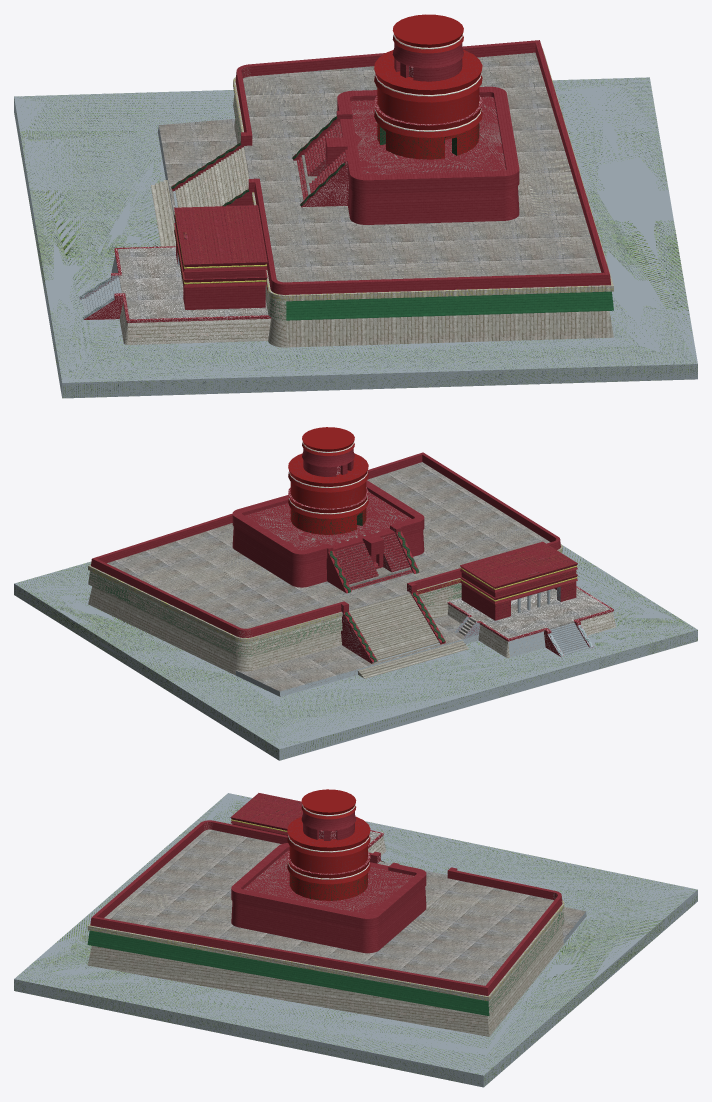
The model's file is chichenitza_r4.obj.
3 renders of one model, top to bottom at view 1: azimuth 30°, elevation 25°; view 2: azimuth 150°, elevation 25°; view 3: azimuth 270°, elevation 25°, orthographic. The views are drawn at different scales.
Parts seen in each view (by area): view 1: instance_1.134_ID2315, instance_1.136_ID2340, instance_1.075_ID1731, instance_1.005_ID1043, instance_1.003_ID1019, instance_1.010_ID1098, instance_1.028_ID1279, instance_1.083_ID1811, instance_1.050_ID1487, instance_1.025_ID1249, instance_1.020_ID1194, instance_1.002_ID1007 (+16 smaller); view 2: instance_1.134_ID2315, instance_1.136_ID2340, instance_1.005_ID1043, instance_1.075_ID1731, instance_1.003_ID1019, instance_1.028_ID1279, instance_1.001_ID992, instance_1.020_ID1194, instance_1.083_ID1811, instance_1.050_ID1487, instance_1.025_ID1249, instance_1.002_ID1007 (+14 smaller); view 3: instance_1.134_ID2315, instance_1.136_ID2340, instance_1.005_ID1043, instance_1.075_ID1731, instance_1.003_ID1019, instance_1.010_ID1098, instance_1.083_ID1811, instance_1.002_ID1007, instance_1.050_ID1487, instance_1.099_ID1965, instance_1.097_ID1945, instance_1.095_ID1925 (+4 smaller).
Part boxes in pixels (<box>): instance_1.134_ID2315: <box>14,77,697,398</box>; instance_1.136_ID2340: <box>243,52,601,282</box>; instance_1.075_ID1731: <box>293,86,519,224</box>; instance_1.005_ID1043: <box>175,119,613,347</box>; instance_1.003_ID1019: <box>172,40,610,294</box>; instance_1.010_ID1098: <box>286,291,613,320</box>; instance_1.028_ID1279: <box>81,247,268,319</box>; instance_1.083_ID1811: <box>350,96,505,174</box>; instance_1.050_ID1487: <box>174,205,267,264</box>; instance_1.025_ID1249: <box>111,255,270,344</box>; instance_1.020_ID1194: <box>159,119,237,215</box>; instance_1.002_ID1007: <box>233,48,613,301</box>; instance_1.134_ID2315: <box>14,545,697,760</box>; instance_1.136_ID2340: <box>107,462,550,628</box>; instance_1.005_ID1043: <box>88,586,461,675</box>; instance_1.075_ID1731: <box>232,480,424,593</box>; instance_1.003_ID1019: <box>91,452,560,662</box>; instance_1.028_ID1279: <box>450,588,610,655</box>; instance_1.001_ID992: <box>88,571,342,657</box>; instance_1.020_ID1194: <box>236,615,465,691</box>; instance_1.083_ID1811: <box>245,492,411,550</box>; instance_1.050_ID1487: <box>460,541,577,588</box>; instance_1.025_ID1249: <box>447,605,615,657</box>; instance_1.002_ID1007: <box>88,544,562,642</box>; instance_1.134_ID2315: <box>14,793,697,1087</box>; instance_1.136_ID2340: <box>104,829,553,985</box>; instance_1.005_ID1043: <box>87,926,563,1036</box>; instance_1.075_ID1731: <box>231,843,426,953</box>; instance_1.003_ID1019: <box>90,820,561,995</box>; instance_1.010_ID1098: <box>87,930,489,1015</box>; instance_1.083_ID1811: <box>243,850,413,914</box>; instance_1.002_ID1007: <box>87,900,564,1001</box>; instance_1.050_ID1487: <box>231,793,302,828</box>; instance_1.099_ID1965: <box>287,816,370,851</box>; instance_1.097_ID1945: <box>289,845,367,873</box>; instance_1.095_ID1925: <box>289,873,367,900</box>.
Size of what is drawn, in the model's own units: 102 by 28 by 105.
